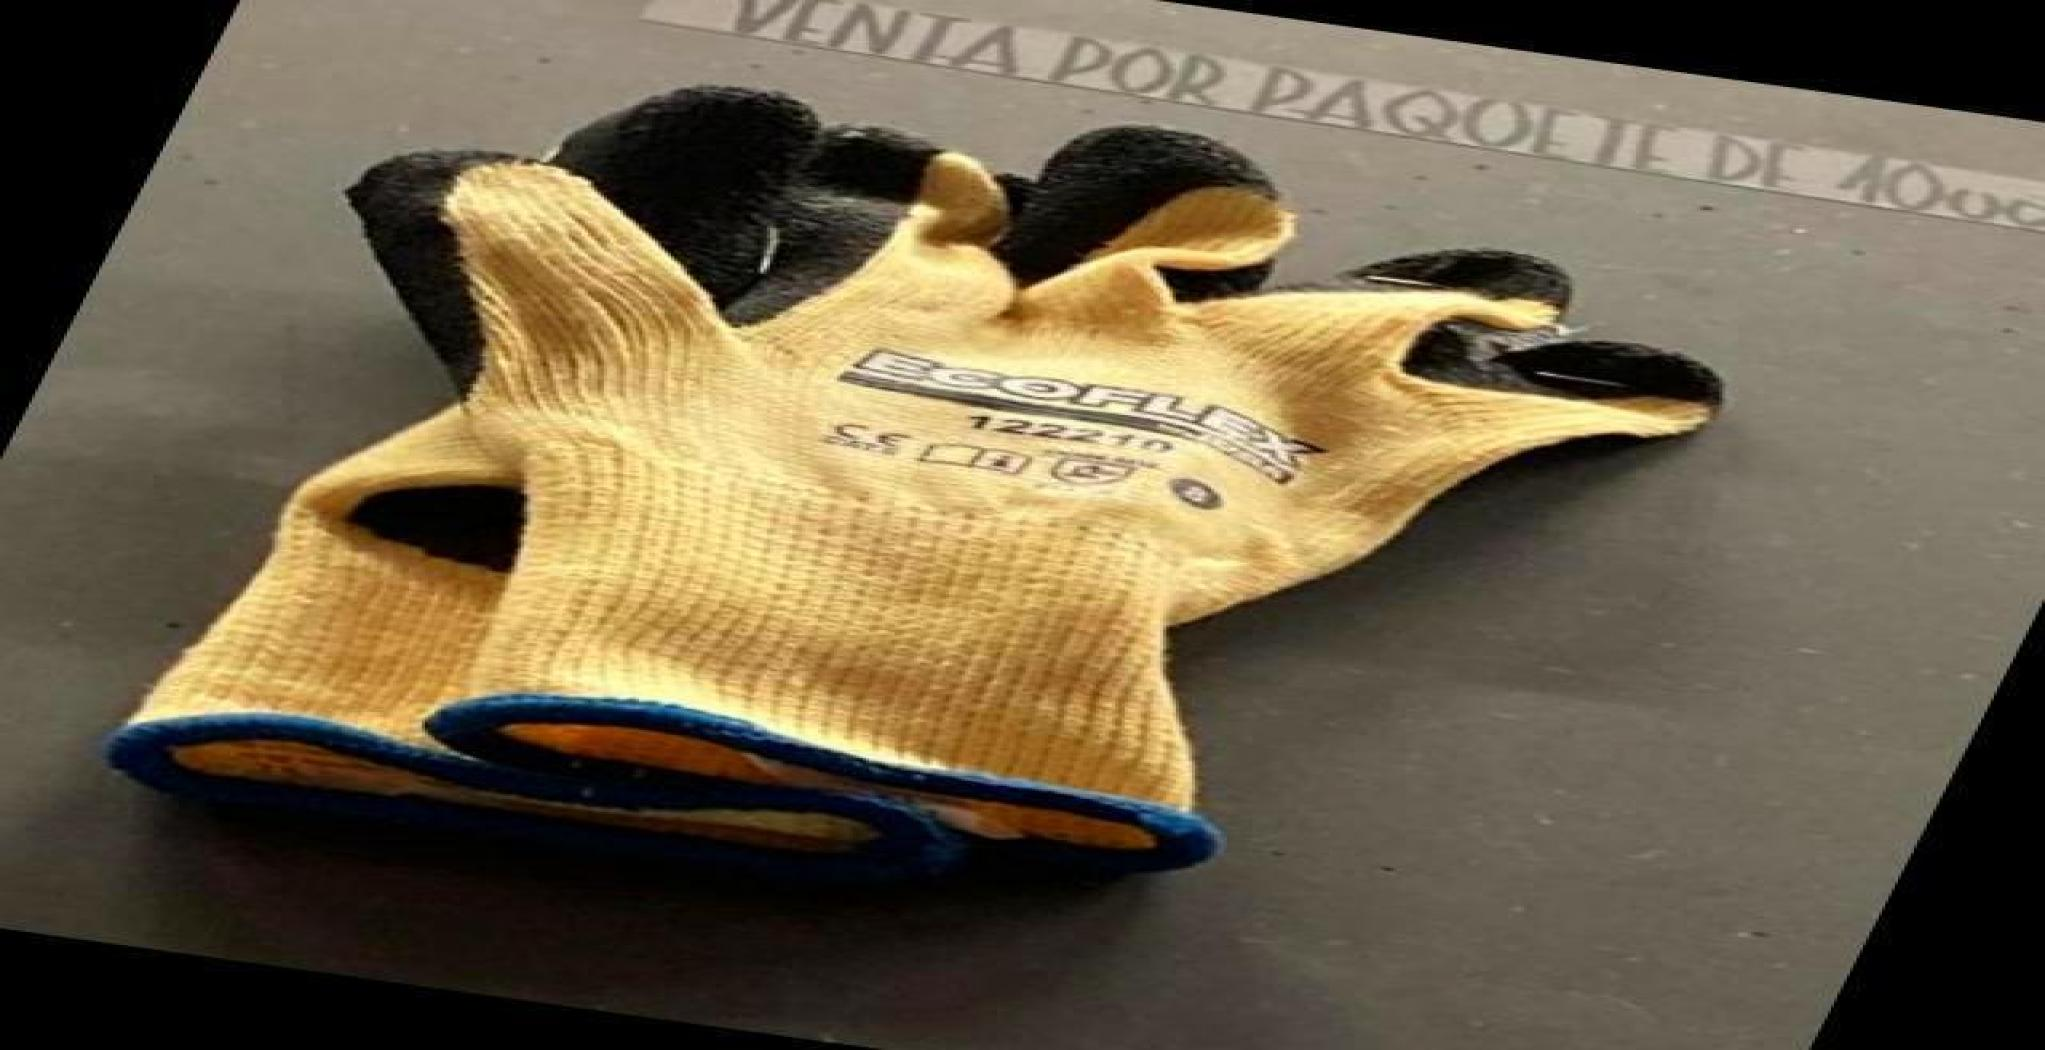gloved: (99, 82, 1722, 888)
